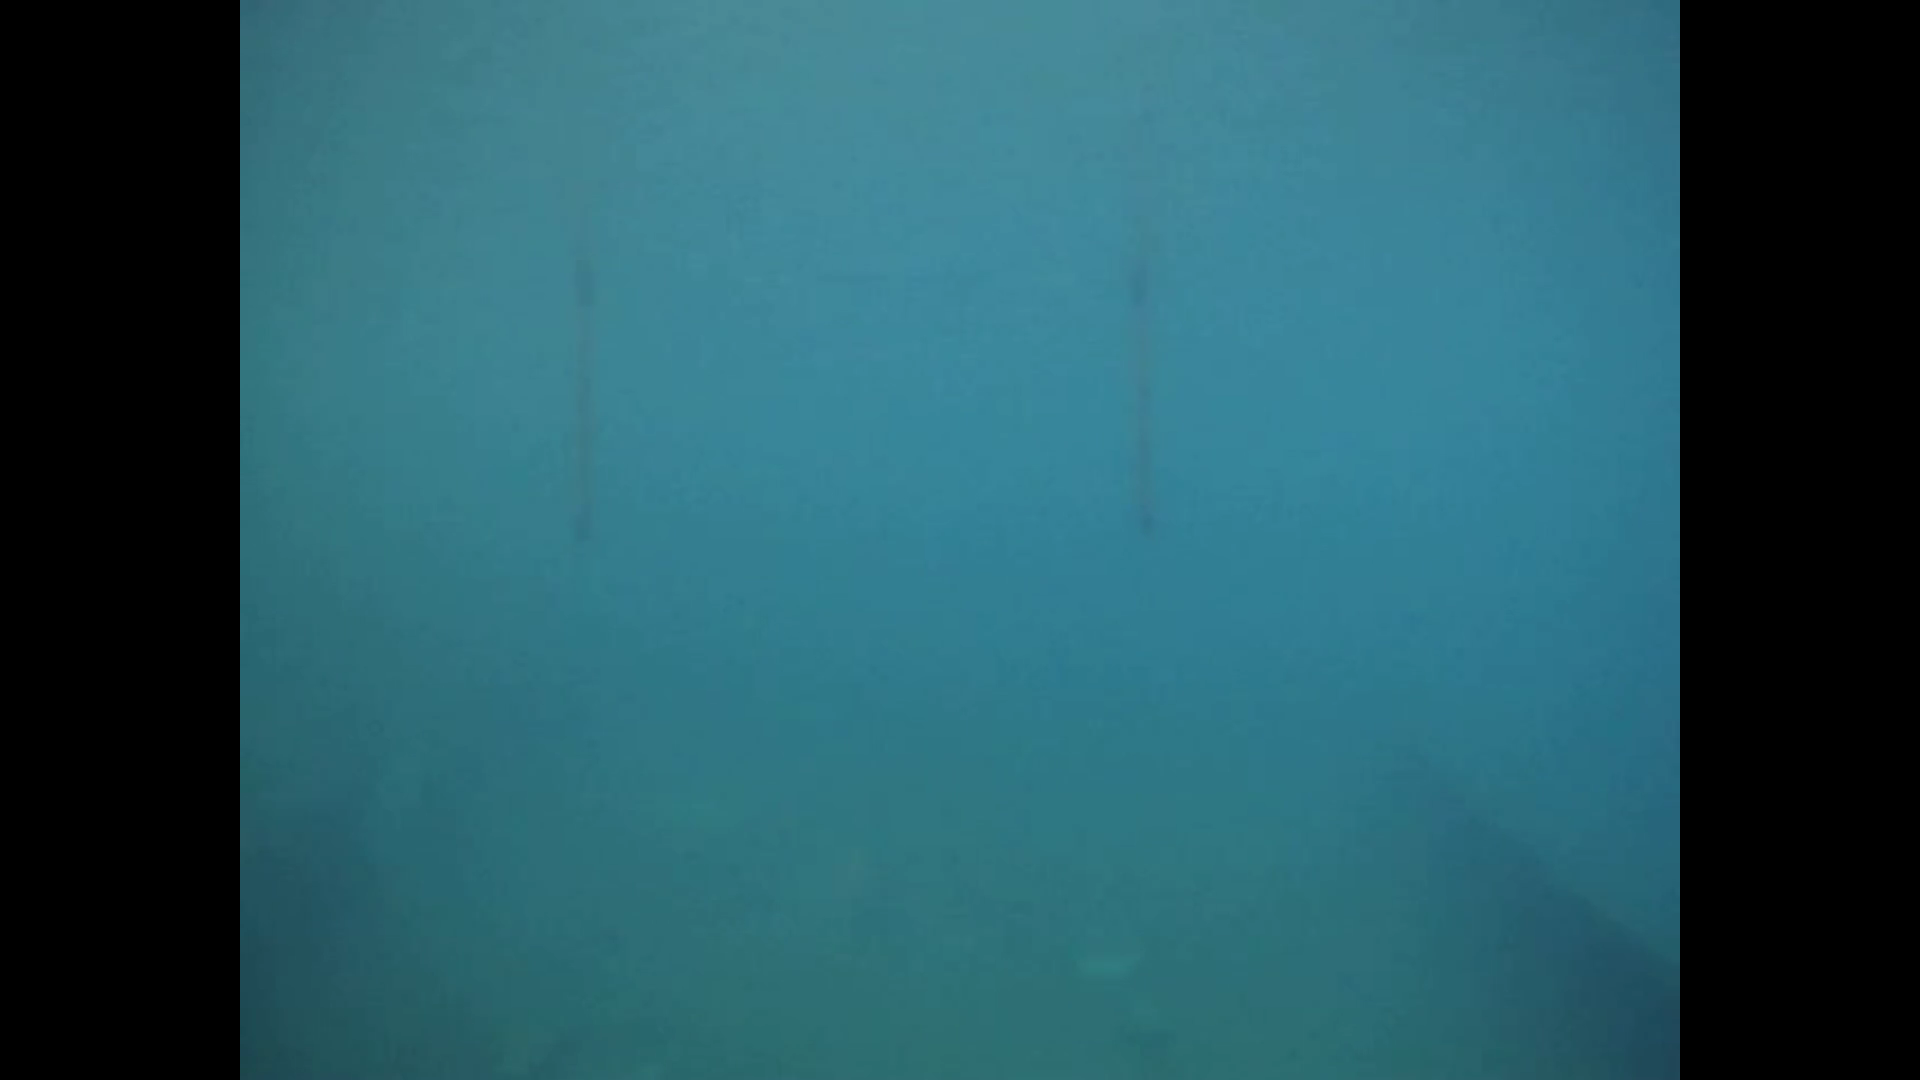gate: (566, 257, 1160, 555)
